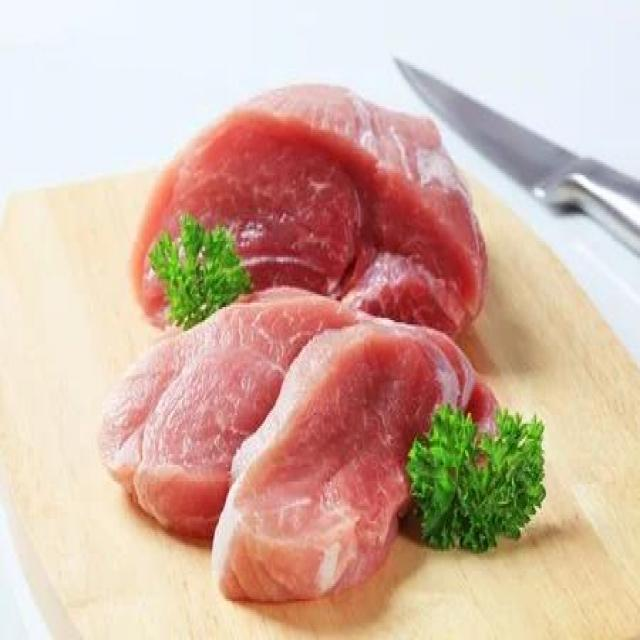pork: (126, 77, 490, 336), (209, 317, 506, 606)
